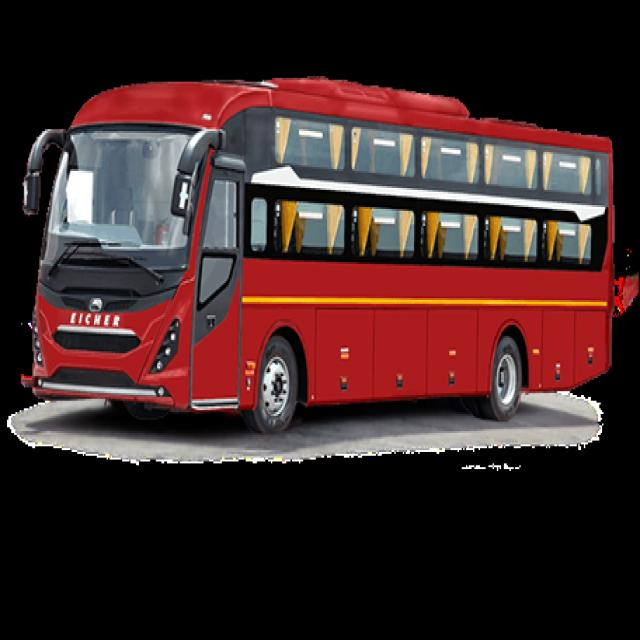bus: (24, 78, 615, 432)
